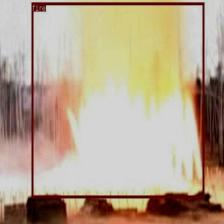fire: (31, 2, 204, 198)
